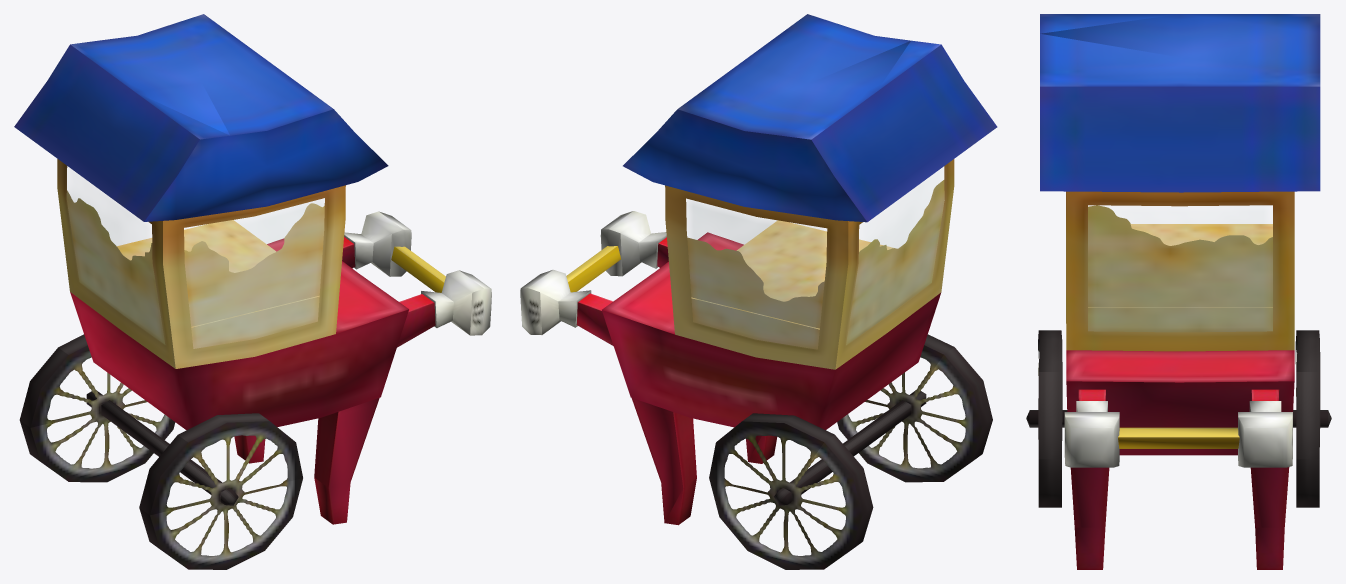
File: popcornCart.glb
3 renders of one model, left to right at view 1: azimuth 30°, elevation 25°; view 2: azimuth 150°, elevation 25°; view 3: azimuth 270°, elevation 25°, orthographic. The views are drawn at different scales.
Visible parts, largest first — view 1: top1, polySurface633, cart, pCube22, polySurface26, polySurface63, polySurface62, pCube24, polySurface5, popcorn_mid1, polySurface61group3, polySurface61group2 (+4 smaller); view 2: top1, polySurface631, cart, polySurface62, polySurface63, pCube23, polySurface26, pCube24, popcorn_mid1, polySurface23, polySurface61group2, polySurface61group3 (+4 smaller); view 3: top1, polySurface632, pCube2, cart, polySurface62, polySurface26, polySurface61group3, polySurface61group2, polySurface5, polySurface23, handle1, popcorn_mid1 (+1 smaller).
Boxes of the visible parts, bbox=[...] form: top1: bbox=[14, 14, 388, 221]; polySurface633: bbox=[163, 185, 345, 368]; cart: bbox=[70, 238, 408, 430]; pCube22: bbox=[184, 203, 324, 348]; polySurface26: bbox=[139, 413, 302, 569]; polySurface63: bbox=[57, 159, 175, 368]; polySurface62: bbox=[19, 334, 175, 482]; pCube24: bbox=[66, 190, 165, 344]; polySurface5: bbox=[314, 398, 379, 524]; popcorn_mid1: bbox=[117, 220, 319, 327]; polySurface61group3: bbox=[421, 270, 491, 335]; polySurface61group2: bbox=[344, 211, 411, 276]; top1: bbox=[623, 14, 997, 222]; polySurface631: bbox=[665, 185, 848, 369]; cart: bbox=[602, 232, 941, 429]; polySurface62: bbox=[709, 413, 873, 569]; polySurface63: bbox=[835, 159, 954, 369]; pCube23: bbox=[687, 237, 824, 349]; polySurface26: bbox=[837, 334, 992, 482]; pCube24: bbox=[846, 180, 944, 345]; popcorn_mid1: bbox=[691, 220, 896, 329]; polySurface23: bbox=[631, 398, 696, 525]; polySurface61group2: bbox=[520, 269, 591, 334]; polySurface61group3: bbox=[600, 211, 666, 276]; top1: bbox=[1040, 14, 1320, 192]; polySurface632: bbox=[1066, 191, 1294, 351]; pCube2: bbox=[1088, 205, 1272, 332]; cart: bbox=[1066, 350, 1294, 455]; polySurface62: bbox=[1295, 330, 1320, 507]; polySurface26: bbox=[1038, 330, 1062, 507]; polySurface61group3: bbox=[1064, 401, 1119, 467]; polySurface61group2: bbox=[1238, 401, 1292, 467]; polySurface5: bbox=[1070, 467, 1109, 569]; polySurface23: bbox=[1250, 467, 1289, 569]; handle1: bbox=[1118, 427, 1239, 448]; popcorn_mid1: bbox=[1088, 224, 1272, 307].
Size of the model in its own units: 4.11 by 4.67 by 2.75.
5 materials, 5 textured.
